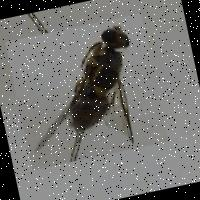Oriental-fruit-fly: (4, 13, 167, 170)
